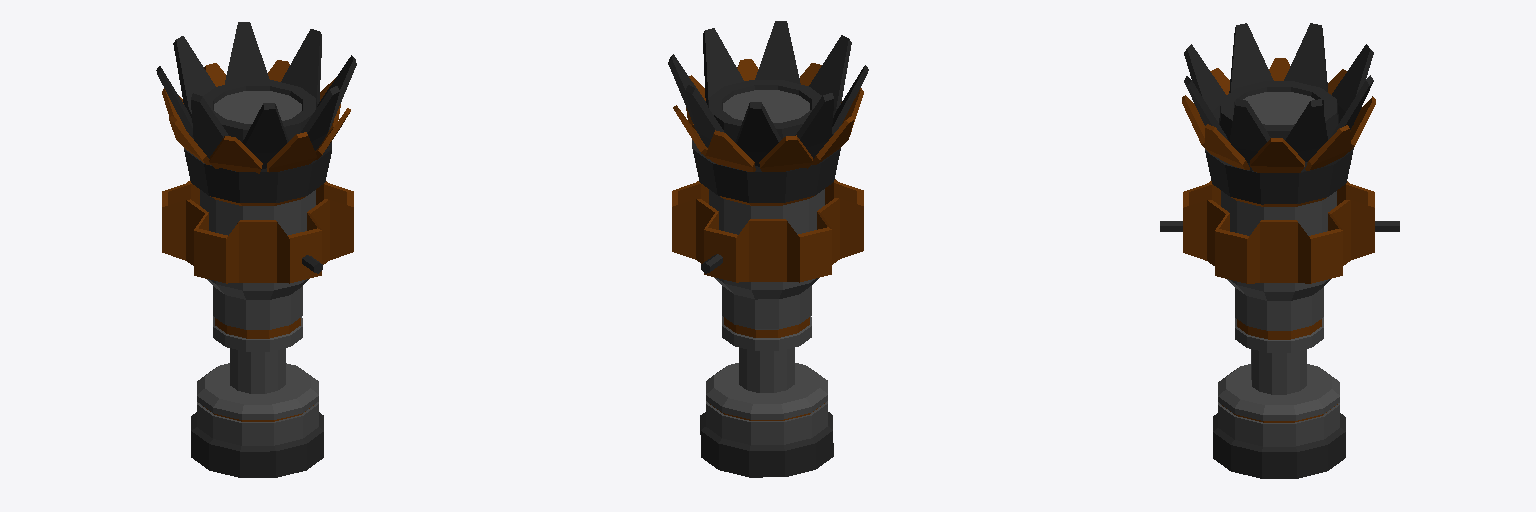
Rendered from Props_Statue.obj.
3 views of the same model, side by side, from view 1: azimuth 30°, elevation 25°; view 2: azimuth 150°, elevation 25°; view 3: azimuth 270°, elevation 25° (orthographic).
Visible parts, largest first — view 1: Props_Statue_Cylinder.012; view 2: Props_Statue_Cylinder.012; view 3: Props_Statue_Cylinder.012.
Boxes of the visible parts, x1,y1,x2,y2 form: Props_Statue_Cylinder.012: [156, 22, 356, 477]; Props_Statue_Cylinder.012: [668, 21, 868, 477]; Props_Statue_Cylinder.012: [1160, 23, 1399, 478].
Size of the model in its own units: 1.18 by 2.61 by 1.46.